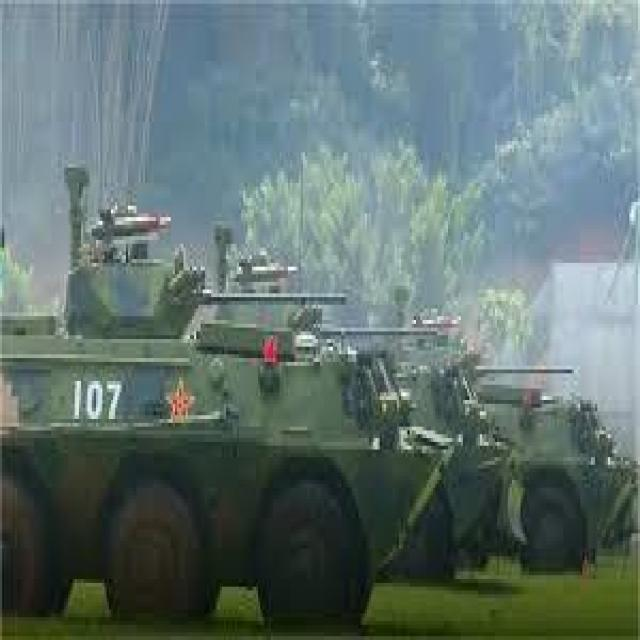MIL_MBT: (5, 246, 436, 634), (400, 328, 505, 575), (507, 375, 633, 573)
